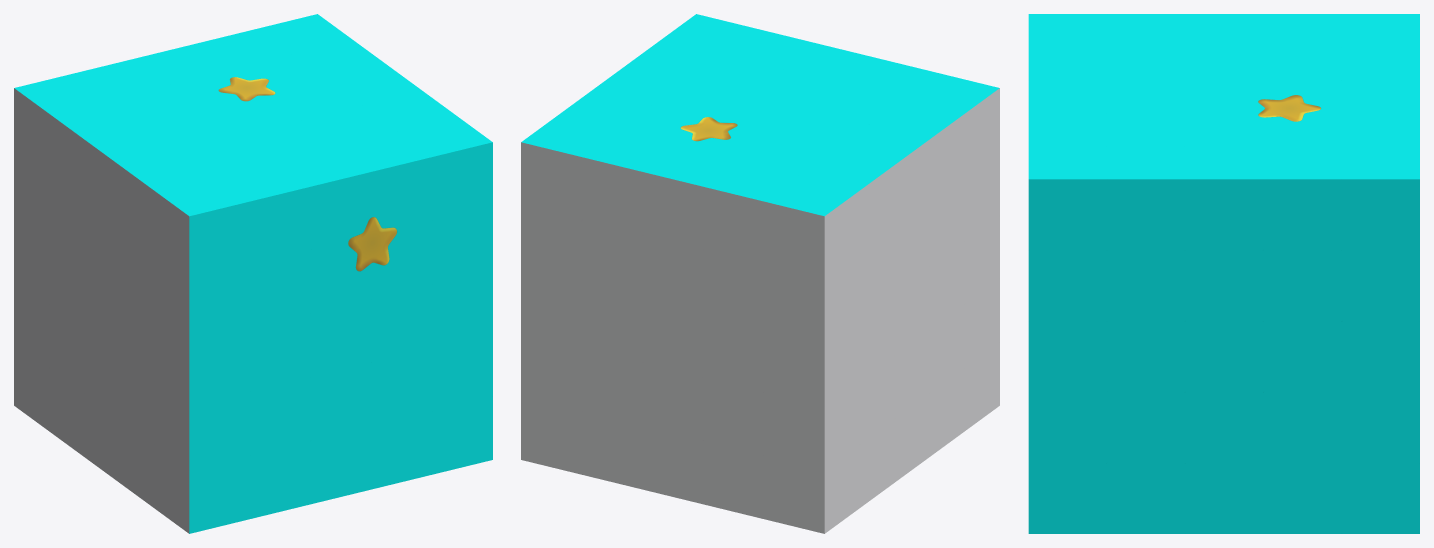
The picture shows the model from 3 angles, left to right: view 1: azimuth 30°, elevation 25°; view 2: azimuth 150°, elevation 25°; view 3: azimuth 270°, elevation 25°; orthographic projection. The views are drawn at different scales.
Visible parts, largest first — view 1: 큐브, 스티커 (×2); view 2: 큐브, 스티커; view 3: 큐브, 스티커.
Boxes of the visible parts, x1=… form: 큐브: x1=14, y1=14, x2=492, y2=533; 스티커 (×2): x1=218, y1=77, x2=396, y2=271; 큐브: x1=521, y1=14, x2=999, y2=533; 스티커: x1=680, y1=117, x2=737, y2=141; 큐브: x1=1028, y1=14, x2=1419, y2=533; 스티커: x1=1258, y1=95, x2=1320, y2=121.
Bounding box in the file's own units: 1.6 × 1.6 × 1.6.
3 materials, 3 textured.
